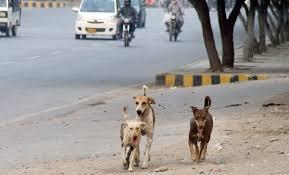normal_dogs: (130, 84, 164, 162), (185, 91, 220, 164), (119, 101, 146, 169)
